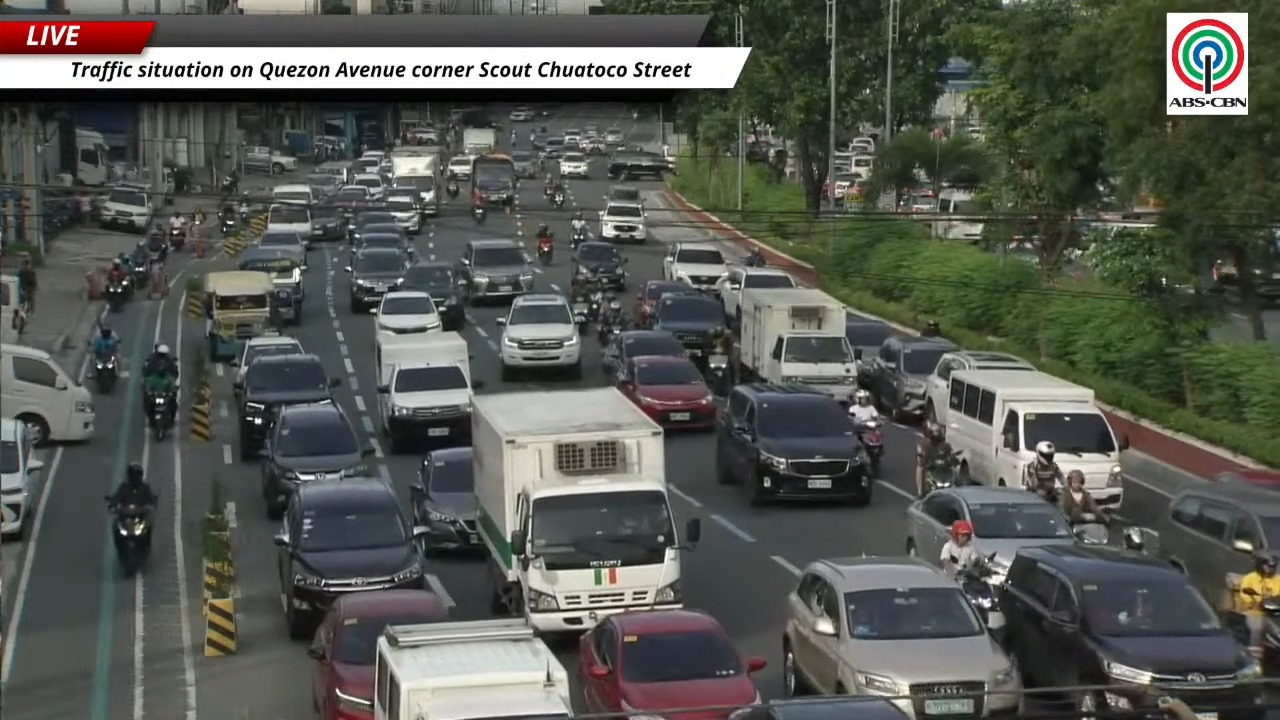bus: (470, 153, 515, 206)
car: (999, 545, 1265, 719), (783, 557, 1021, 719), (273, 477, 424, 639), (577, 609, 765, 716), (715, 384, 872, 504), (308, 589, 448, 719), (906, 485, 1076, 584), (1147, 483, 1279, 598), (261, 401, 372, 518), (235, 354, 340, 460), (858, 336, 959, 420), (925, 350, 1035, 424), (410, 447, 484, 553), (497, 293, 581, 381), (617, 356, 715, 429), (0, 418, 43, 538), (455, 239, 533, 303), (649, 293, 723, 357), (717, 265, 796, 324), (727, 696, 923, 719), (400, 261, 464, 331), (345, 247, 411, 313), (602, 330, 687, 379), (236, 246, 307, 297), (230, 334, 304, 382), (663, 242, 728, 292), (375, 289, 442, 334), (846, 313, 900, 365), (571, 241, 626, 290), (633, 280, 689, 326), (99, 186, 153, 231), (351, 224, 415, 258), (265, 202, 312, 246), (607, 149, 671, 180), (599, 201, 646, 243), (255, 229, 307, 263), (384, 188, 421, 234), (347, 209, 396, 243), (242, 146, 298, 174), (1211, 468, 1279, 489), (330, 186, 370, 218), (312, 203, 345, 241), (352, 172, 386, 200), (304, 174, 342, 197), (510, 150, 539, 178), (559, 152, 589, 178), (605, 185, 643, 204), (446, 155, 473, 179), (354, 154, 384, 172), (542, 136, 565, 159), (579, 137, 606, 155), (603, 127, 624, 145), (509, 106, 534, 121), (563, 128, 581, 148), (531, 131, 548, 150), (582, 123, 598, 137)
motorcycle: (955, 552, 1004, 631), (106, 496, 152, 575), (1249, 597, 1279, 665), (922, 451, 959, 496), (854, 419, 883, 476), (1071, 513, 1109, 545), (151, 393, 175, 442), (597, 300, 621, 344), (94, 353, 118, 394), (707, 352, 729, 395), (104, 279, 127, 312), (1027, 482, 1061, 504), (131, 249, 149, 289), (572, 295, 589, 335), (597, 320, 622, 345), (1123, 525, 1145, 553), (587, 284, 603, 321), (168, 225, 186, 250), (120, 268, 134, 299), (742, 248, 766, 266), (537, 237, 552, 265), (220, 175, 238, 196), (571, 226, 587, 249), (220, 214, 237, 235), (472, 205, 486, 224), (446, 182, 459, 200), (238, 204, 250, 223), (552, 191, 564, 208)
truck: (472, 388, 700, 634), (371, 618, 571, 719), (739, 288, 856, 402), (377, 332, 473, 449), (390, 148, 441, 215), (75, 127, 109, 186), (462, 127, 496, 155)
